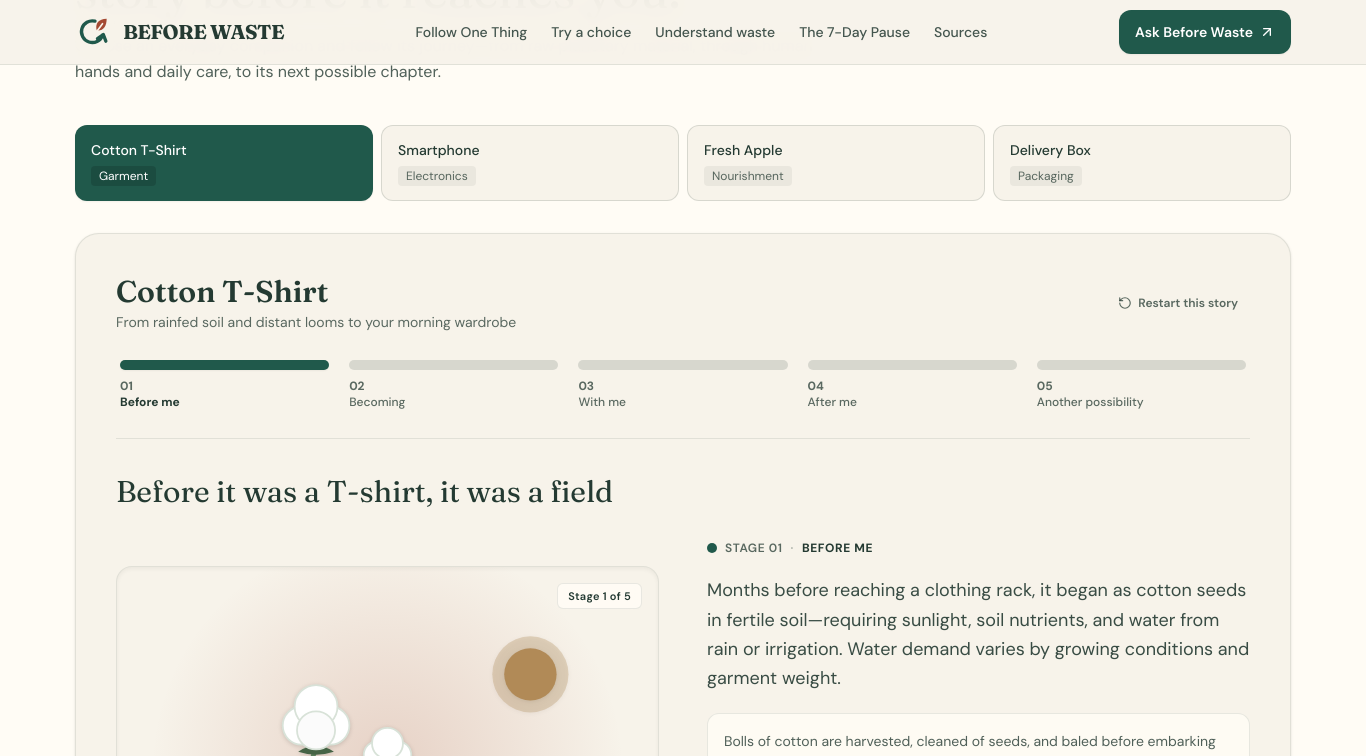
Test: real application interactions › orients readers to the new object after finishing a journey
(page scrolled)
Click the button "05 Another possibility": (1141, 385) left=1033, top=356, right=1250, bottom=414
(page scrolled)
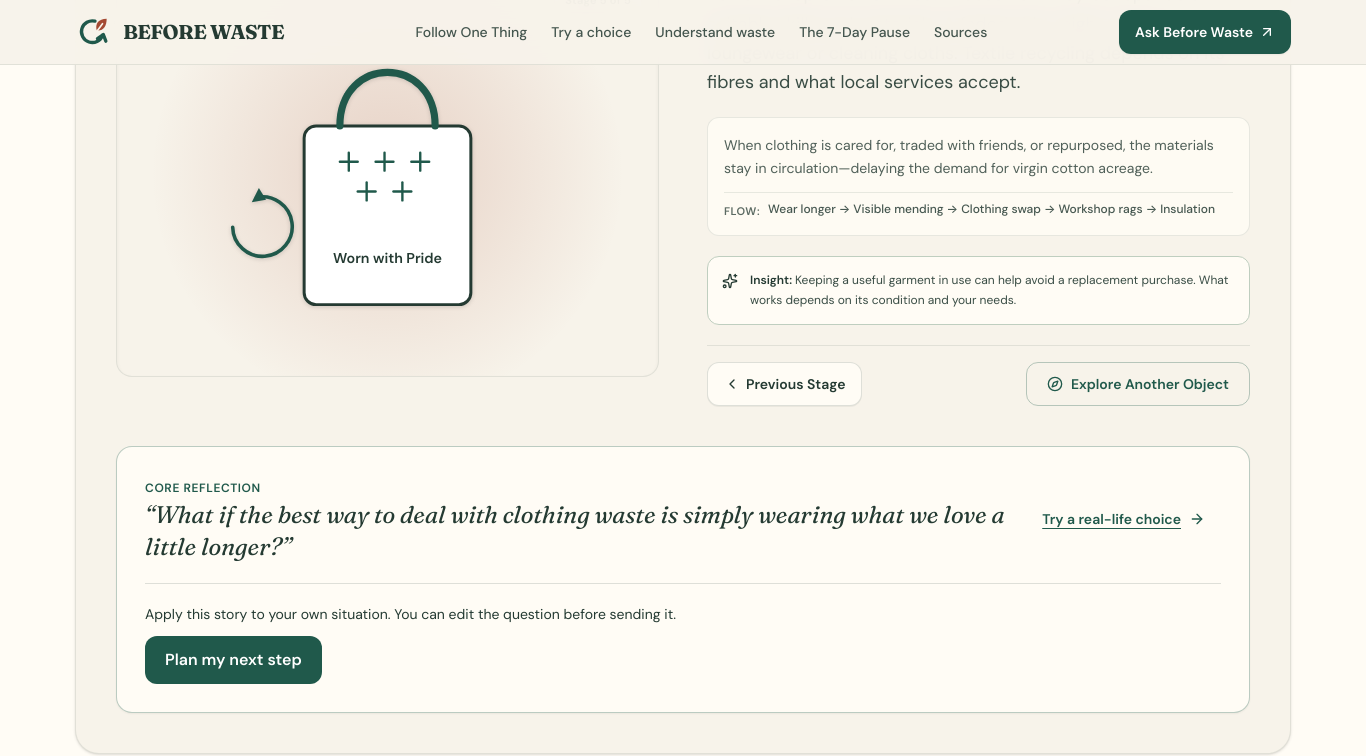
Click the button "Explore Another Object": (1138, 384) left=1026, top=362, right=1250, bottom=406
(page scrolled)
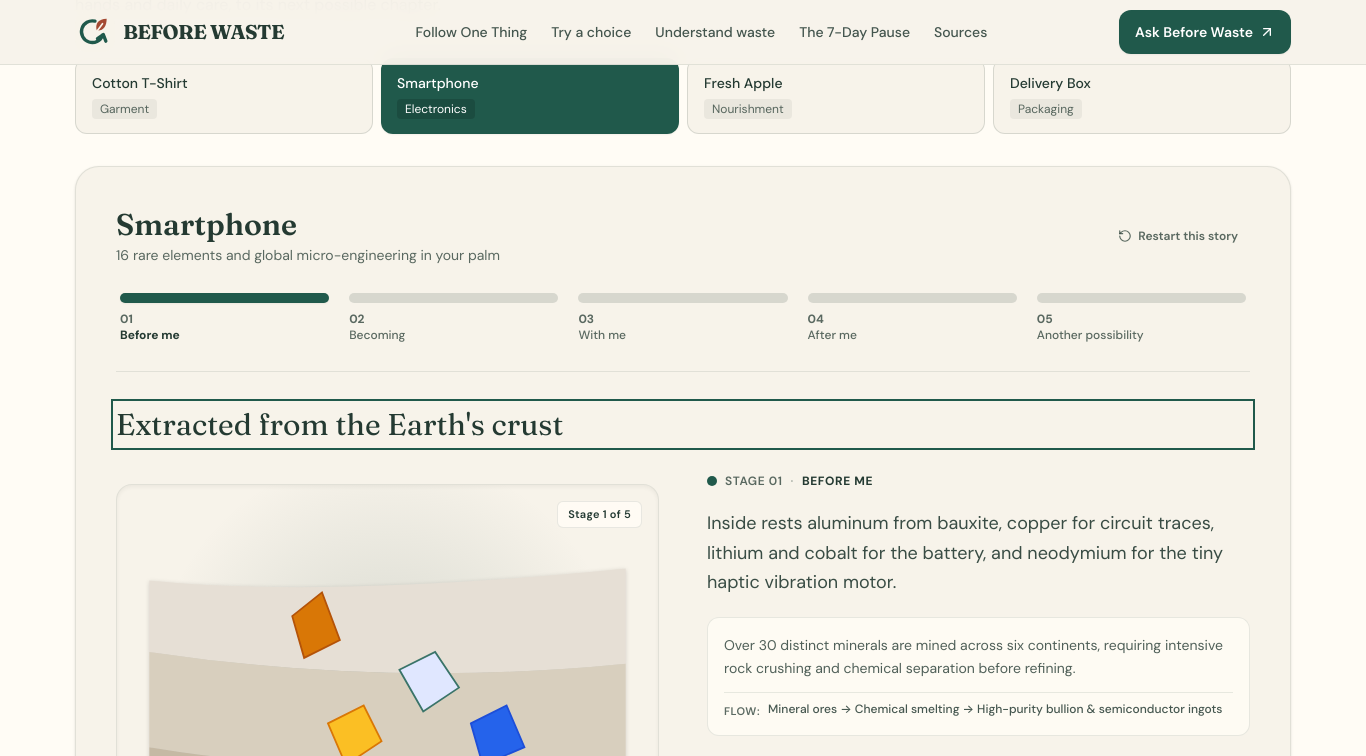
Now the heading with id "story-stage-title" reads "Extracted from the Earth's crust", box left=116, top=406, right=563, bottom=443
